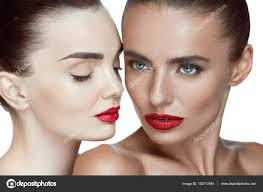no_mask: (126, 2, 254, 151), (21, 5, 123, 155)
